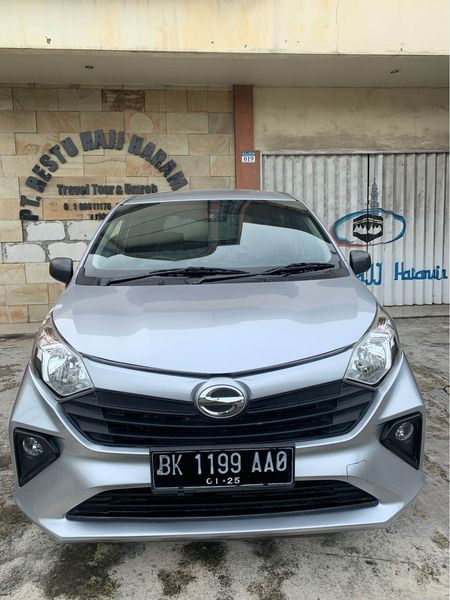plate: (150, 445, 296, 487)
